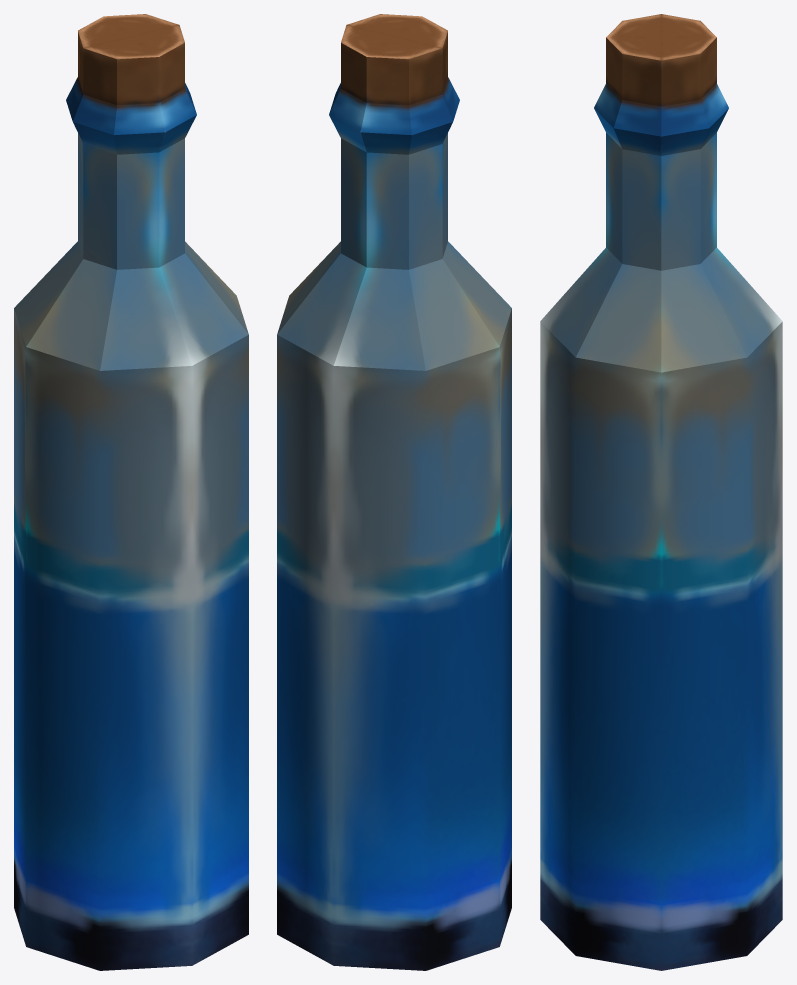
File: JiuPing06.FBX
The picture shows the model from 3 angles, left to right: view 1: azimuth 30°, elevation 25°; view 2: azimuth 150°, elevation 25°; view 3: azimuth 270°, elevation 25°; orthographic projection.
Parts seen in each view (by area): view 1: JiuPing06; view 2: JiuPing06; view 3: JiuPing06.
Boxes of the visible parts, box(x1,y1,x2,y2) form: JiuPing06: box(14, 14, 248, 970); JiuPing06: box(277, 14, 511, 970); JiuPing06: box(540, 14, 782, 970).
Size of the model in its own units: 13.53 by 54.33 by 13.53.
